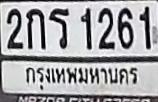1: (139, 6, 150, 49), (80, 7, 91, 49)
2: (98, 7, 114, 48), (6, 8, 22, 48)
6: (117, 7, 133, 48)
A01: (26, 8, 45, 48)
A35: (48, 8, 69, 48)
BKK: (23, 63, 142, 92)
